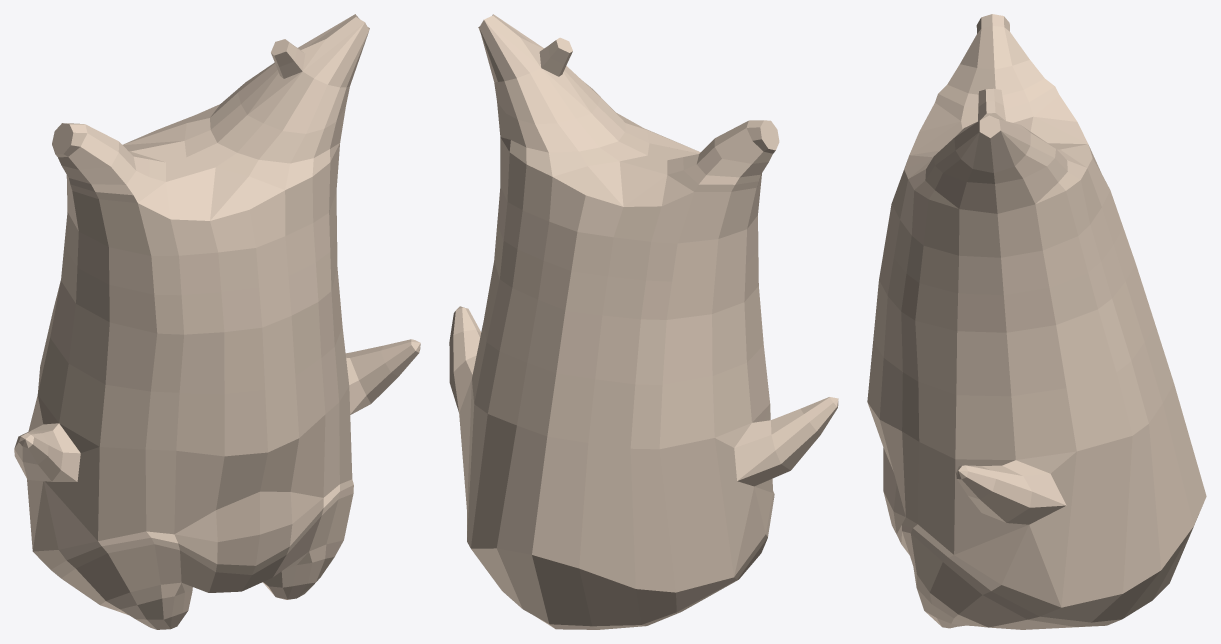
The model's file is frame_0112.obj.
3 renders of one model, left to right at view 1: azimuth 30°, elevation 25°; view 2: azimuth 150°, elevation 25°; view 3: azimuth 270°, elevation 25°, orthographic. The views are drawn at different scales.
Visible parts, largest first — view 1: korok; view 2: korok; view 3: korok.
Boxes of the visible parts, x1,y1,x2,y2 form: korok: (14, 14, 420, 629); korok: (449, 14, 838, 629); korok: (867, 14, 1206, 629).
Size of the model in its own units: 1.46 by 1.94 by 1.06.
